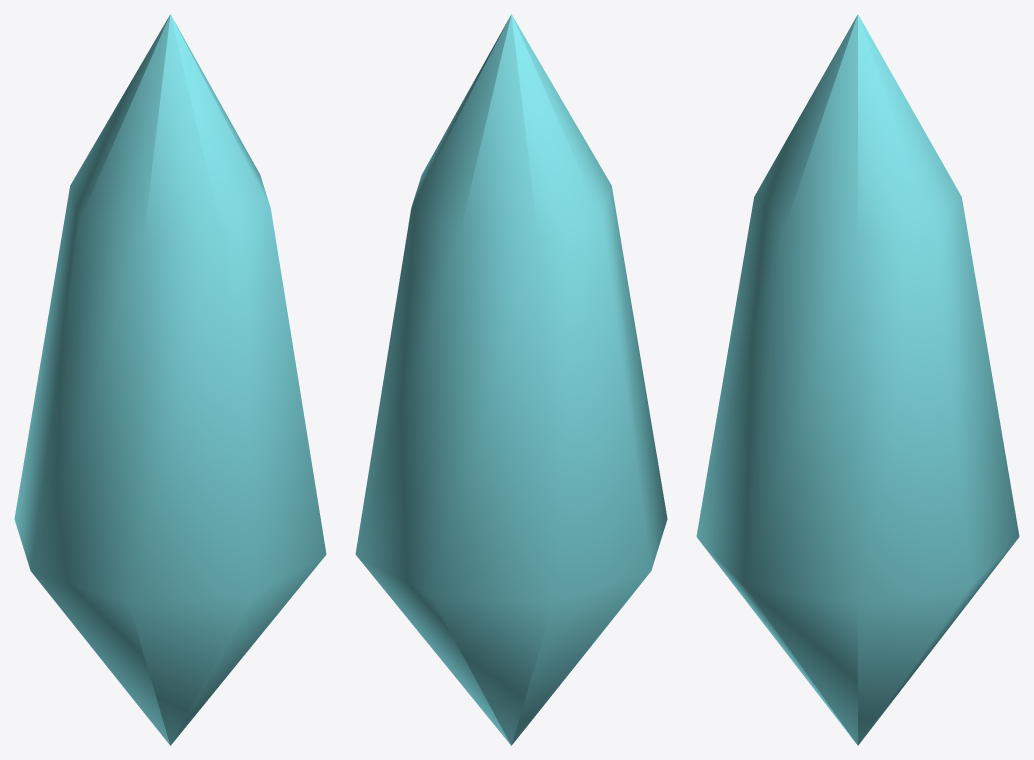
3 renders of one model, left to right at view 1: azimuth 30°, elevation 25°; view 2: azimuth 150°, elevation 25°; view 3: azimuth 270°, elevation 25°, orthographic.
Bounding box in the file's own units: 0.56 × 1.4 × 0.56.
